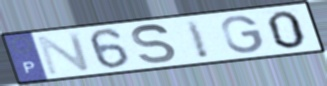0: (265, 9, 309, 50)
6: (87, 27, 132, 70)
G: (220, 14, 266, 55)
I: (182, 18, 213, 61)
N: (35, 30, 94, 77)
S: (130, 23, 179, 65)
